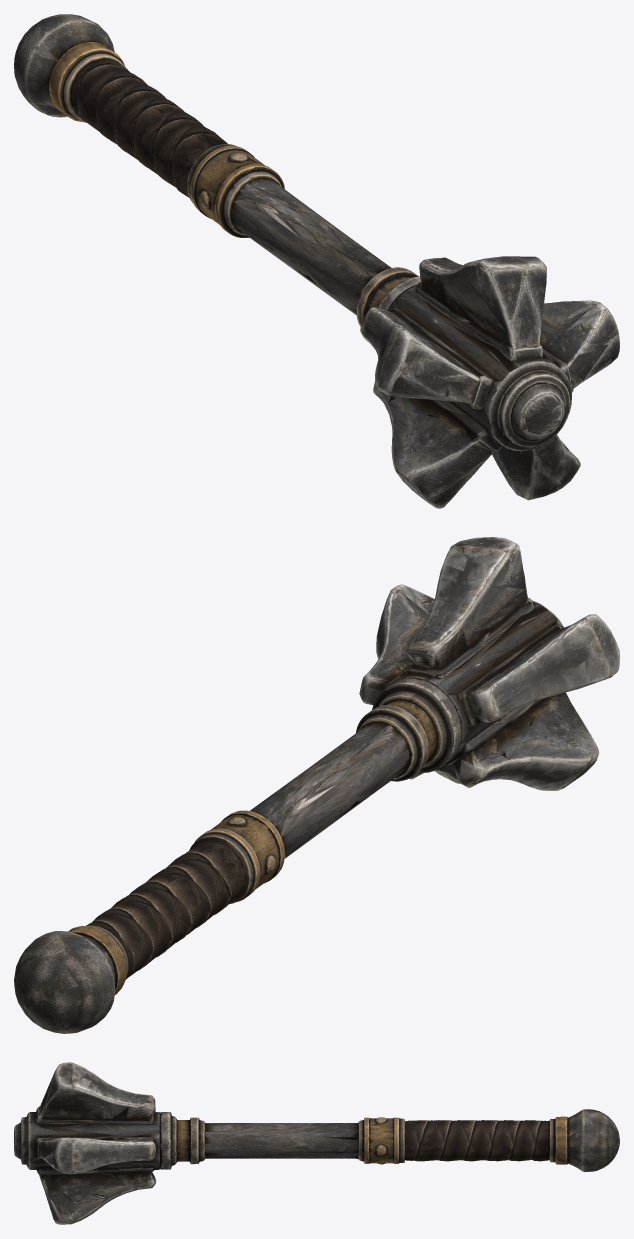
Rendered from mace.glb.
The picture shows the model from 3 angles, top to bottom: view 1: azimuth 30°, elevation 25°; view 2: azimuth 150°, elevation 25°; view 3: azimuth 270°, elevation 25°; orthographic projection. The views are drawn at different scales.
Parts seen in each view (by area): view 1: mace; view 2: mace; view 3: mace.
Part boxes in pixels (x1,y1,x2,y2): mace: (14, 14, 619, 508); mace: (14, 537, 619, 1033); mace: (14, 1062, 619, 1224).
Bounding box in the file's own units: 0.1738 × 0.1745 × 0.6499.
1 material, 1 textured.
